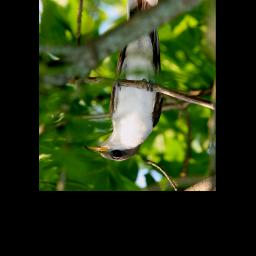Cuckoo: (83, 0, 165, 163)
